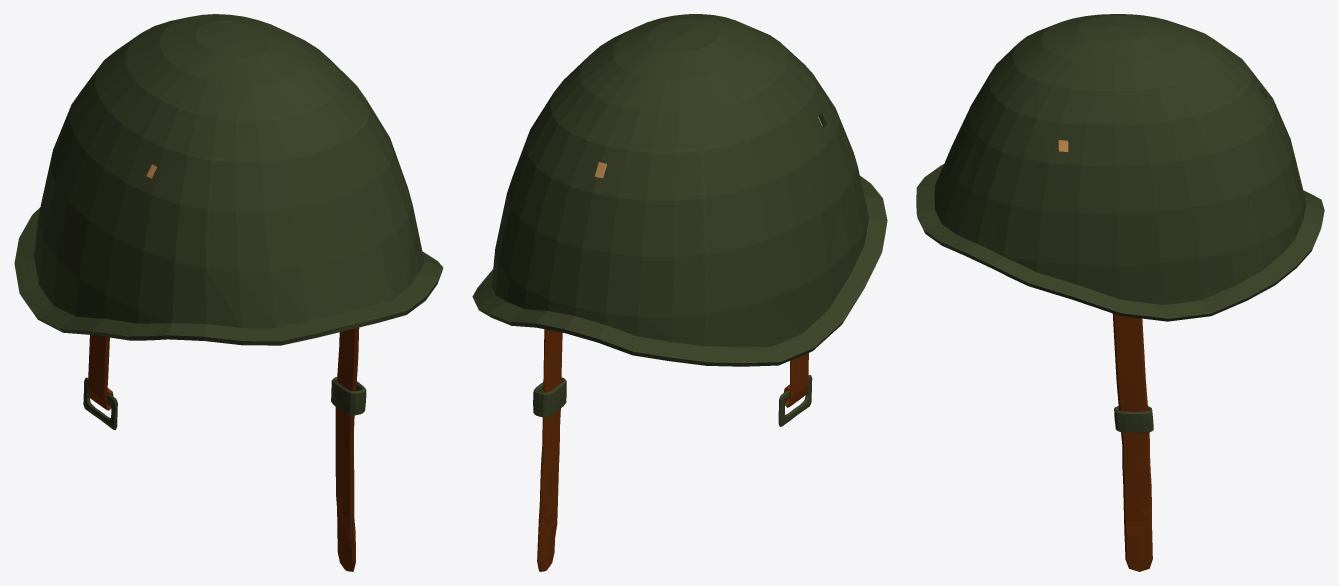
File: mhw_jaldmic_m1951_72.glb
3 renders of one model, left to right at view 1: azimuth 30°, elevation 25°; view 2: azimuth 150°, elevation 25°; view 3: azimuth 270°, elevation 25°, orthographic. The views are drawn at different scales.
Parts seen in each view (by area): view 1: mhw_jaldmic_m1951_72; view 2: mhw_jaldmic_m1951_72; view 3: mhw_jaldmic_m1951_72.
Boxes of the visible parts, x1=… form: mhw_jaldmic_m1951_72: x1=14, y1=14, x2=443, y2=571; mhw_jaldmic_m1951_72: x1=472, y1=14, x2=887, y2=571; mhw_jaldmic_m1951_72: x1=916, y1=14, x2=1324, y2=571.
Size of the model in its own units: 0.2376 by 0.388 by 0.2917.
Materials: 1 (1 with a texture image).
